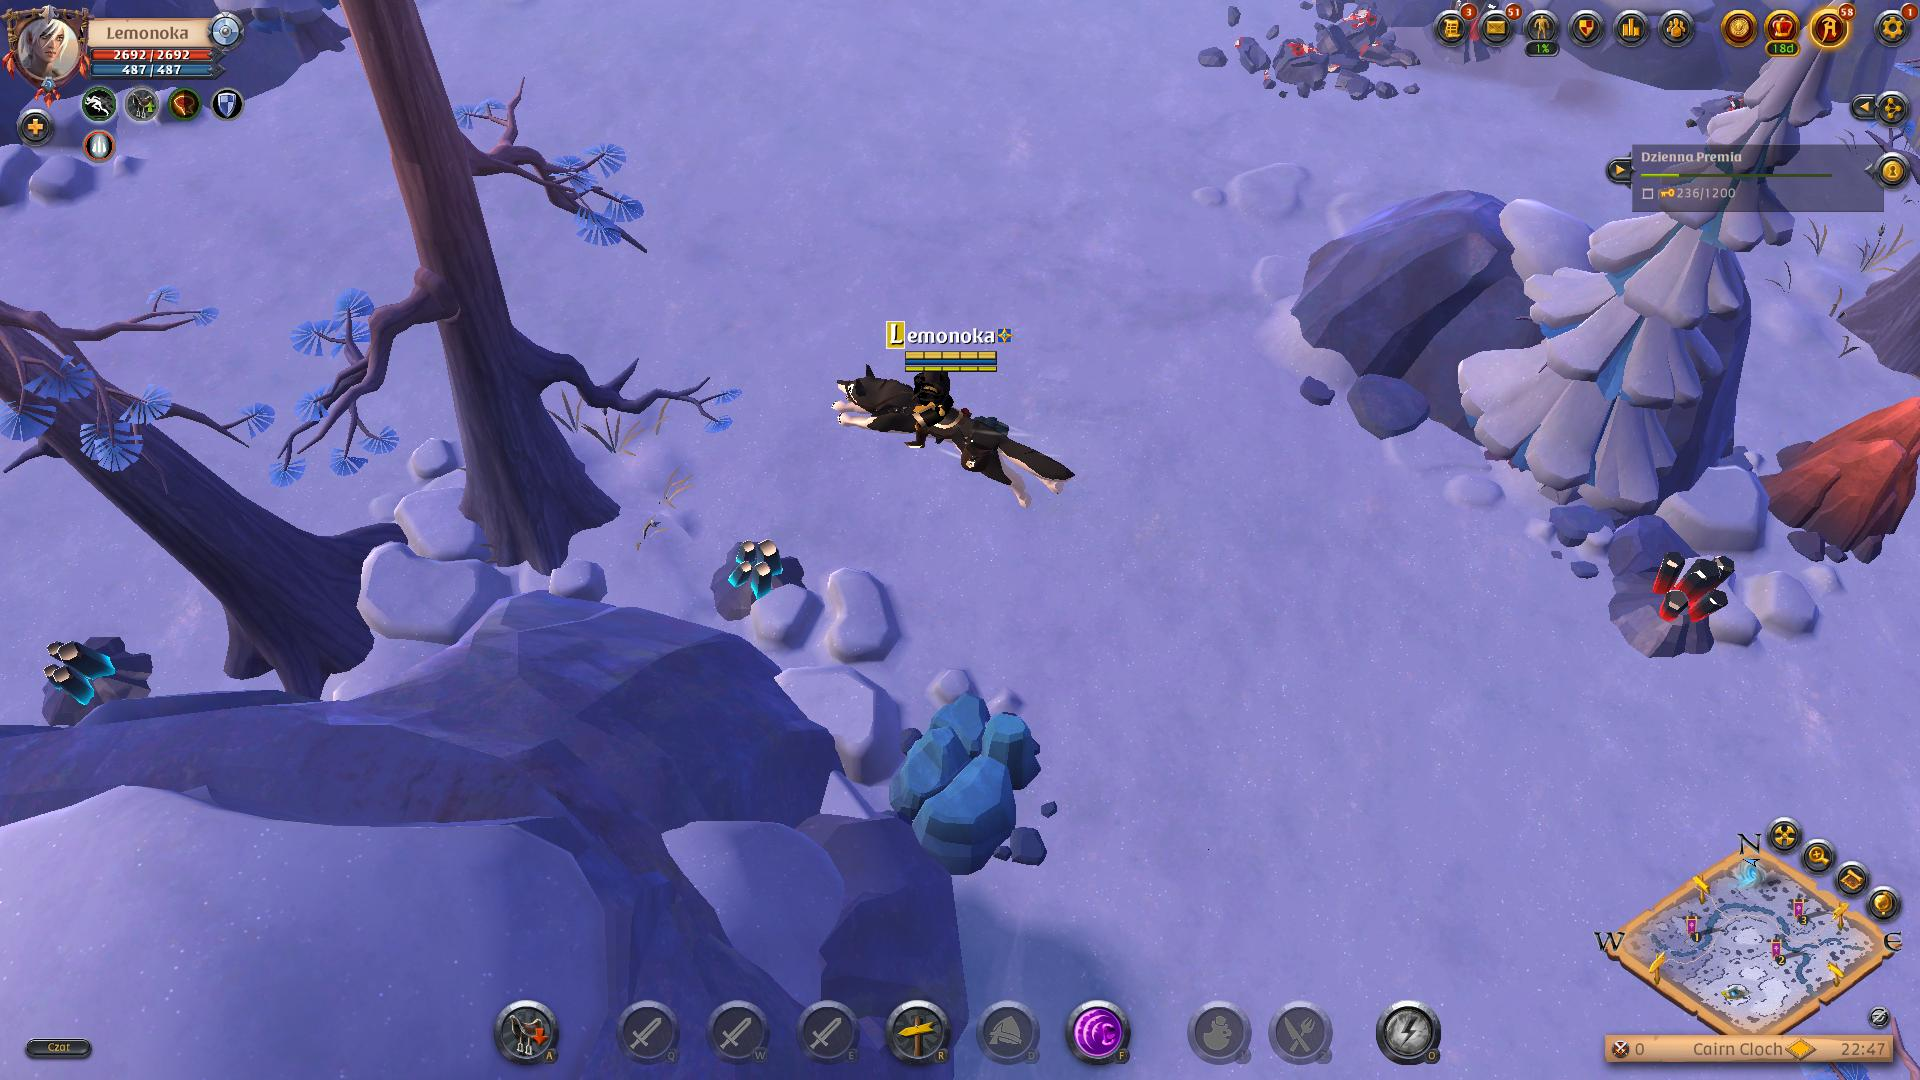ore tier 4: (29, 625, 150, 741), (702, 533, 808, 633)
ore tier 5: (1606, 542, 1730, 662)
rock tier 4: (891, 692, 1050, 878)
rock tier 5: (1756, 410, 1920, 575)
